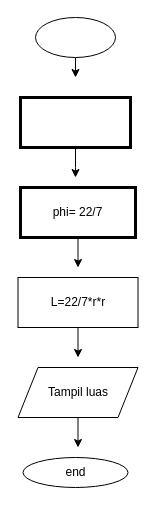
Image size: 155x505. Some labels were removed from this diagram. Each missing label, with the centre of its shape:
"r=14" goes at (75,122).
"start" goes at (75,37).
